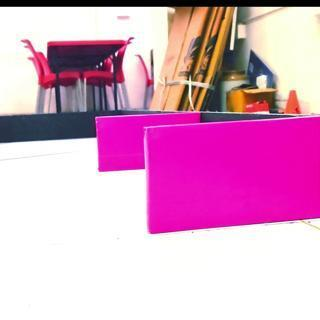xparking: (148, 128, 320, 228), (98, 116, 142, 170)
